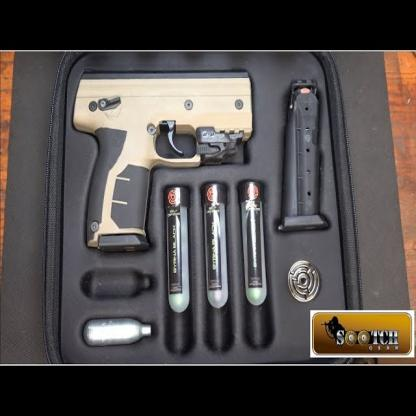handgun: (73, 78, 253, 242)
